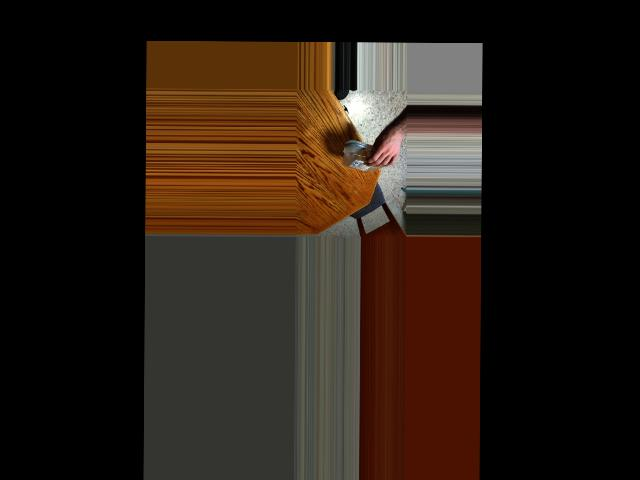cheese: (351, 136, 395, 173)
